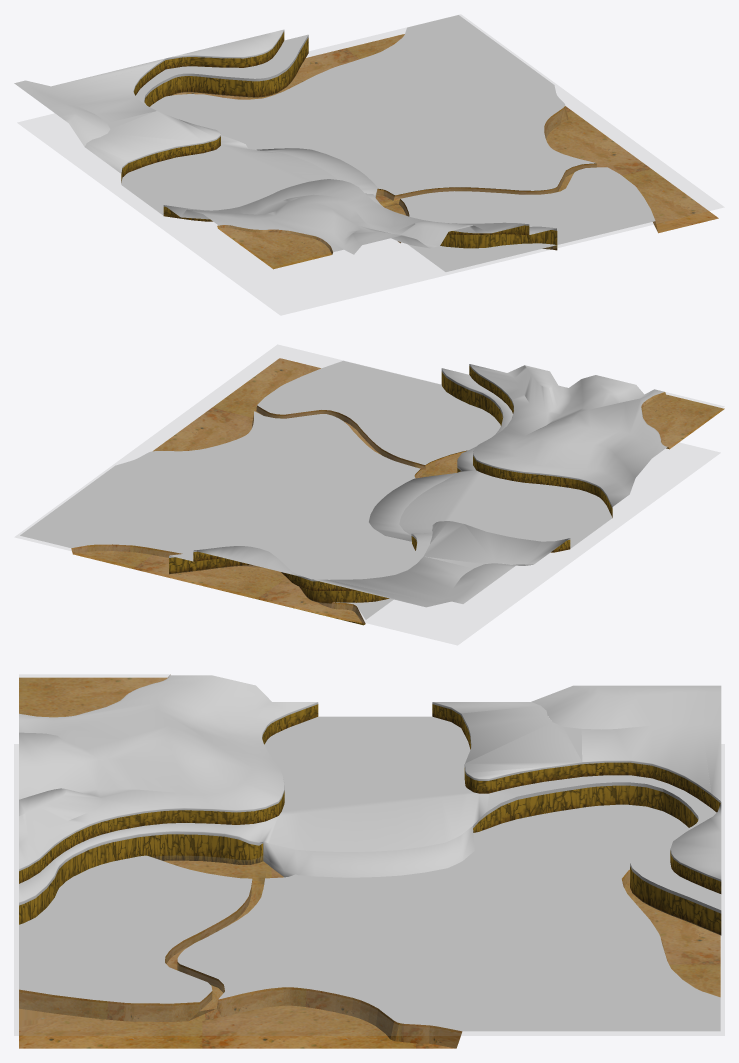
The model's file is Terrain Model Latest.FBX.
3 renders of one model, top to bottom at view 1: azimuth 30°, elevation 25°; view 2: azimuth 150°, elevation 25°; view 3: azimuth 270°, elevation 25°, orthographic. The views are drawn at different scales.
Parts seen in each view (by area): view 1: Plane005, Plane029, Object015, Object041, Object042, Plane006, Plane003; view 2: Plane005, Plane029, Object015, Object042, Object041, Plane006, Plane003; view 3: Plane005, Object015, Plane029, Object041, Object042, Plane003, Plane006.
Part boxes in pixels (x1,y1,x2,y2): Plane005: [14, 15, 655, 271]; Plane029: [18, 15, 722, 314]; Object015: [173, 34, 718, 243]; Object041: [144, 37, 557, 250]; Object042: [121, 31, 529, 235]; Plane006: [217, 225, 332, 269]; Plane003: [218, 225, 332, 266]; Plane005: [20, 360, 667, 619]; Plane029: [15, 345, 719, 644]; Object015: [71, 358, 467, 625]; Object042: [193, 366, 612, 590]; Object041: [169, 371, 502, 603]; Plane006: [641, 392, 724, 449]; Plane003: [641, 392, 723, 446]; Plane005: [19, 675, 721, 1031]; Object015: [19, 860, 720, 1048]; Plane029: [14, 744, 724, 1035]; Object041: [19, 785, 721, 935]; Object042: [19, 704, 721, 893]; Plane003: [19, 675, 169, 716]; Plane006: [19, 674, 170, 717].
Size of the model in its own units: 959 by 123 by 975.
